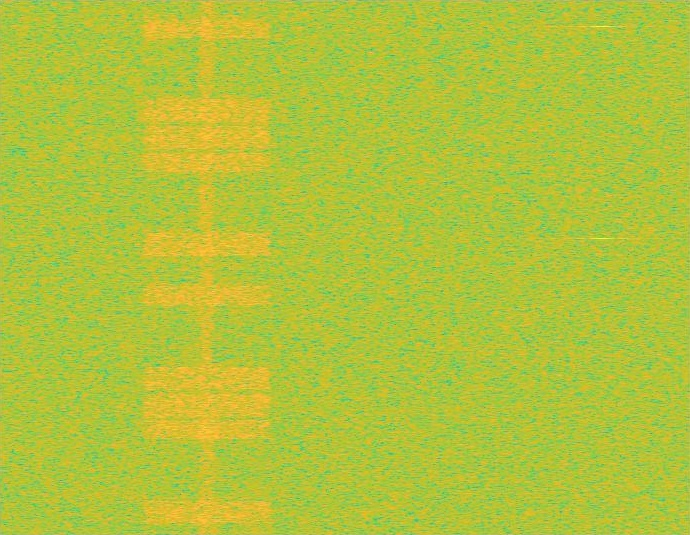DSSS: (198, 0, 216, 534)
LTE: (138, 0, 276, 534)
Radar: (595, 0, 609, 534)
